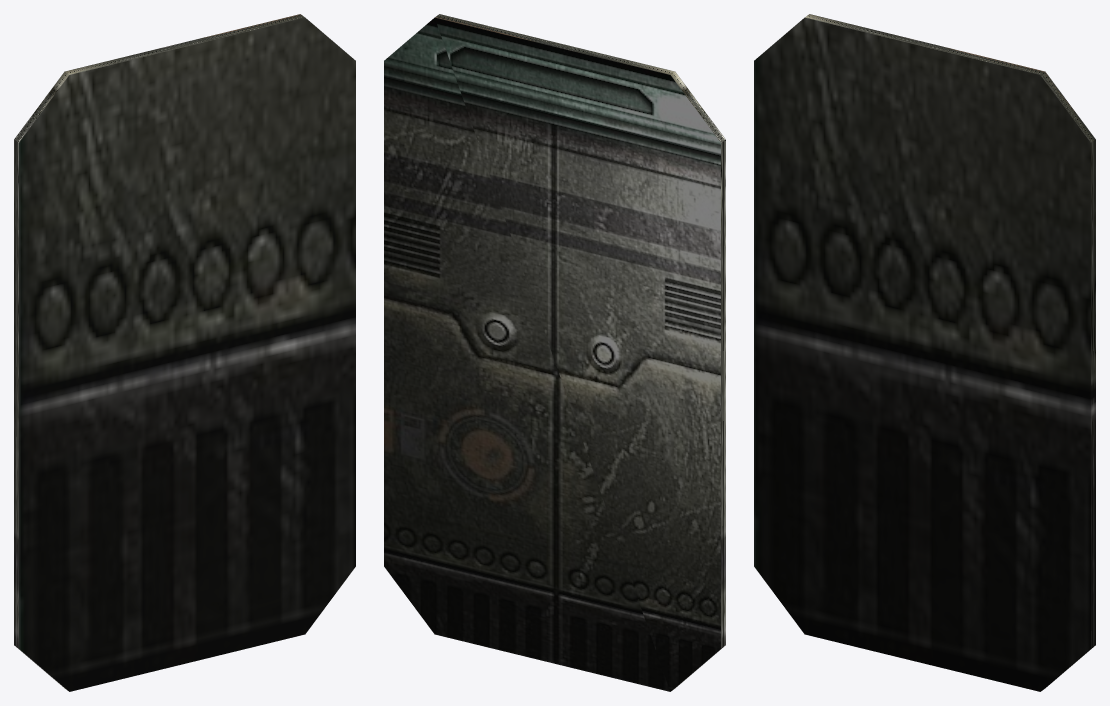
File: RoomDoor.fbx
3 renders of one model, left to right at view 1: azimuth 30°, elevation 25°; view 2: azimuth 150°, elevation 25°; view 3: azimuth 330°, elevation 25°, orthographic.
Visible parts, largest first — view 1: pCube62, pCube63; view 2: pCube62, pCube63; view 3: pCube63, pCube62.
Boxes of the visible parts, x1=… form: pCube62: x1=14, y1=14, x2=305, y2=691; pCube63: x1=69, y1=18, x2=355, y2=691; pCube62: x1=434, y1=14, x2=725, y2=691; pCube63: x1=384, y1=18, x2=670, y2=691; pCube63: x1=804, y1=71, x2=1095, y2=691; pCube62: x1=754, y1=14, x2=1044, y2=633.
Bounding box in the file's own units: 3.29 × 5.75 × 0.0822.
